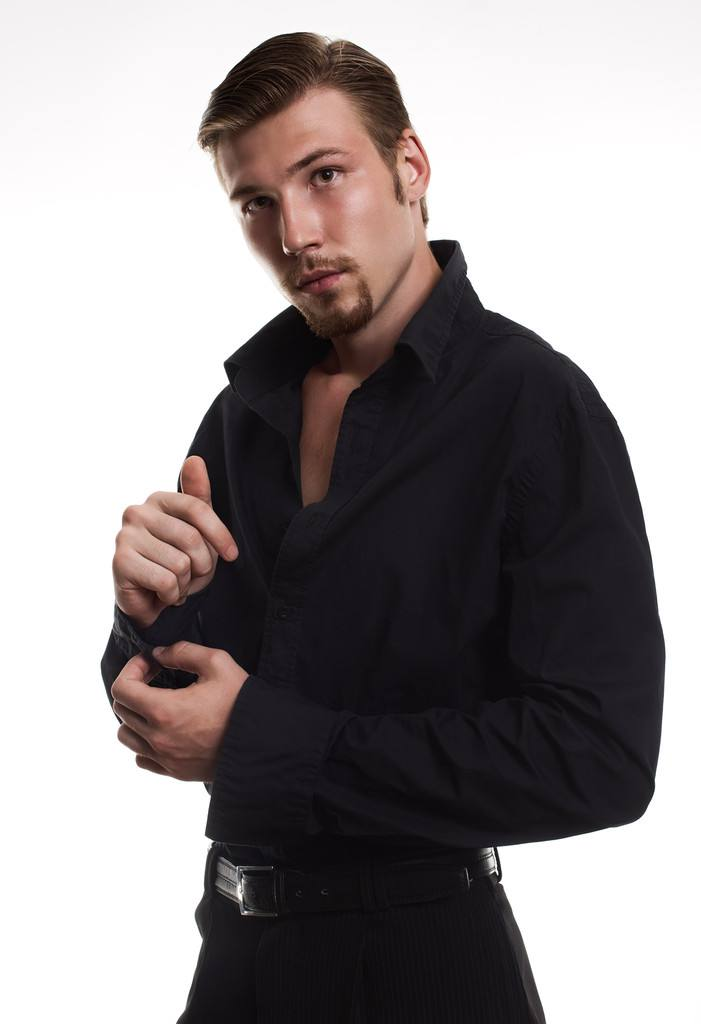person: (101, 11, 614, 963)
